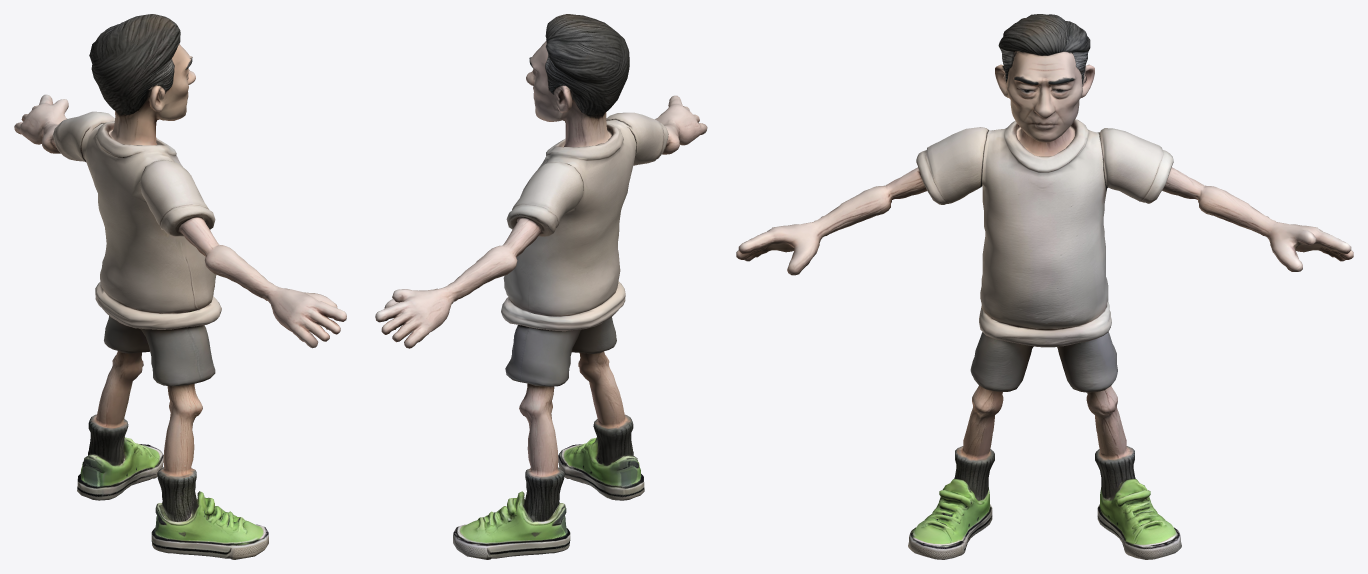
3 renders of one model, left to right at view 1: azimuth 30°, elevation 25°; view 2: azimuth 150°, elevation 25°; view 3: azimuth 270°, elevation 25°, orthographic.
Parts seen in each view (by area): view 1: tripo_node_e52ea4ad; view 2: tripo_node_e52ea4ad; view 3: tripo_node_e52ea4ad.
Part boxes in pixels (x1,y1,x2,y2): tripo_node_e52ea4ad: [14, 14, 346, 559]; tripo_node_e52ea4ad: [375, 14, 707, 559]; tripo_node_e52ea4ad: [736, 14, 1353, 559].
Bounding box in the file's own units: 0.2211 × 0.9119 × 1.
Materials: 1 (1 with a texture image).
